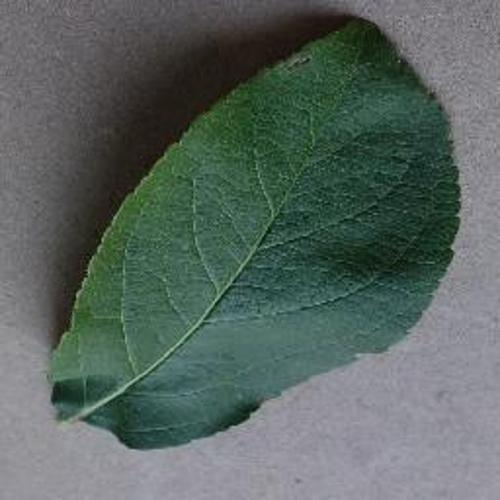Apple: (51, 16, 461, 450)
